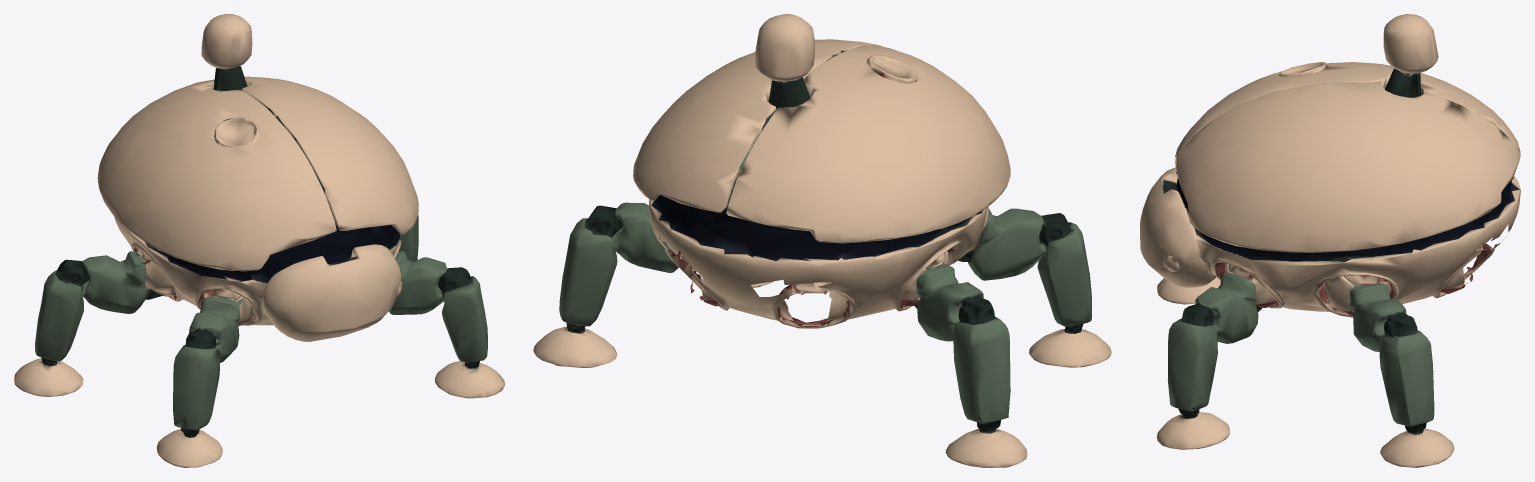
The model's file is crawler-lod.glb.
3 views of the same model, side by side, from view 1: azimuth 30°, elevation 25°; view 2: azimuth 150°, elevation 25°; view 3: azimuth 270°, elevation 25° (orthographic). The views are drawn at different scales.
Parts seen in each view (by area): view 1: survey crawler tripo lod; view 2: survey crawler tripo lod; view 3: survey crawler tripo lod.
Part boxes in pixels (x1,y1,x2,y2): survey crawler tripo lod: [14, 14, 504, 467]; survey crawler tripo lod: [533, 14, 1111, 467]; survey crawler tripo lod: [1140, 14, 1520, 467].
Bounding box in the file's own units: 0.8659 × 0.6592 × 0.6549.
Materials: 1 (1 with a texture image).
